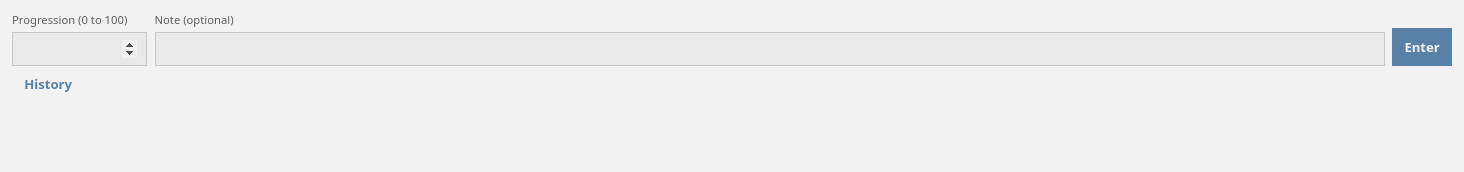
Scenario: ProgressEntryPanel › enters progress through the hook it is given and reads the history only once the disclosure opens
This screenshot has width=1464, height=172.
Type "75" into the number field labelled "Progression (0 to 100)" at (80,49), box [12,32,147,66]
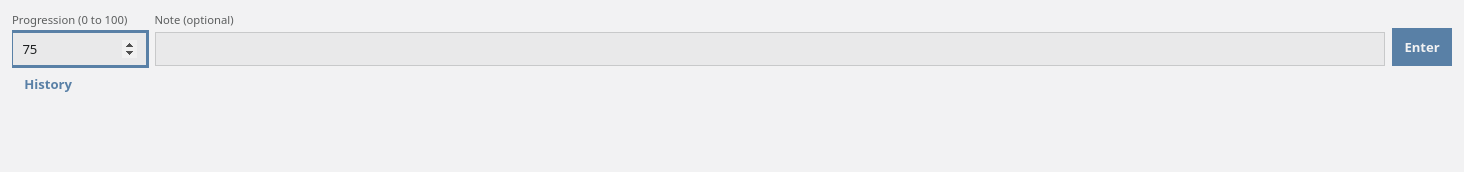
Click the button "Enter" at (1422,47), box [1392,28,1452,66]
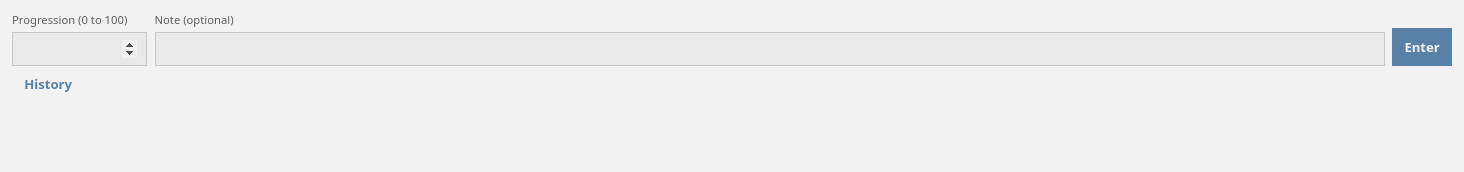
Click the button "History" at (48,85), box [12,66,84,103]
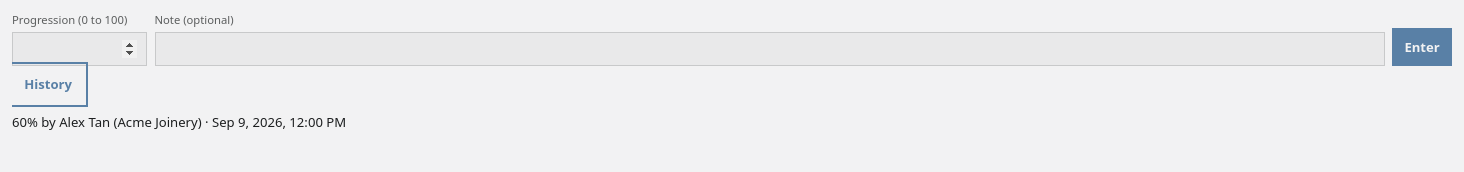
Expected: the number of list items is 1, [12,113,346,131]
